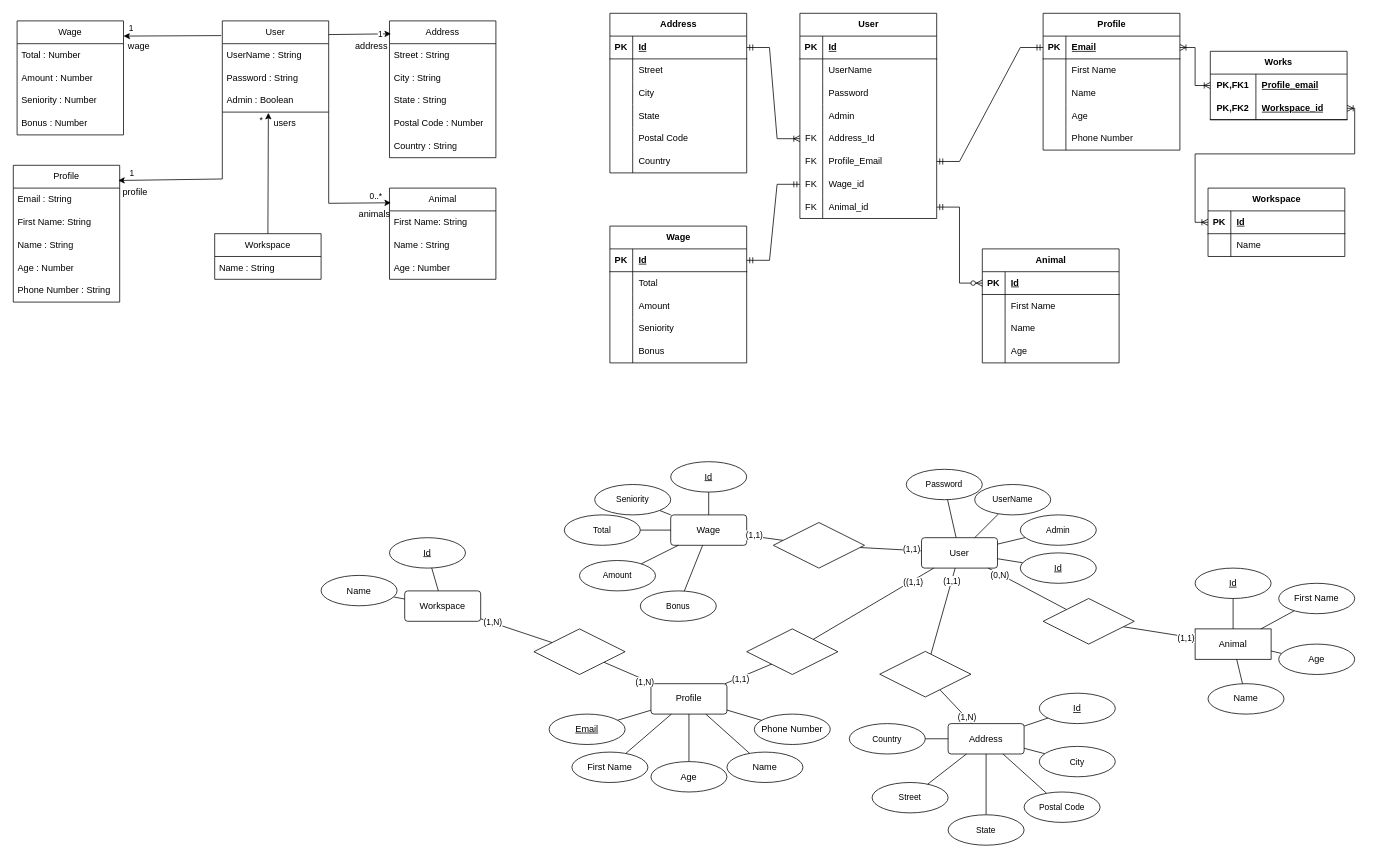
The diagram is 1375 pixels wide and 859 high, and some of its shapes have lost their labels. Each missing label, with the centre of its shape:
cares for: point (1088, 621)
Gets Payed: point (818, 545)
Has: point (792, 651)
Lives in: point (925, 674)
Works in: point (579, 651)
